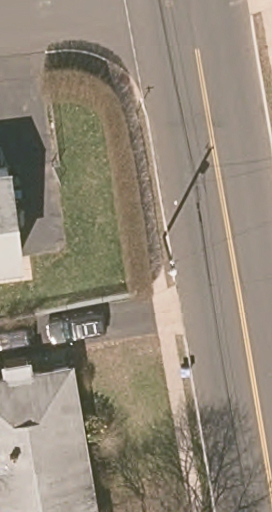DT: (160, 236, 181, 282)
